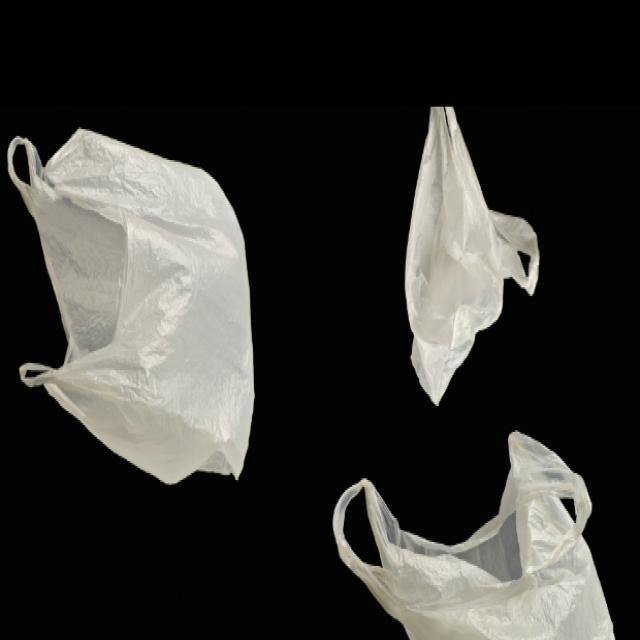Single-layer Plastic: (8, 129, 254, 483), (332, 432, 615, 640), (405, 108, 539, 404), (1, 1, 1, 1)
